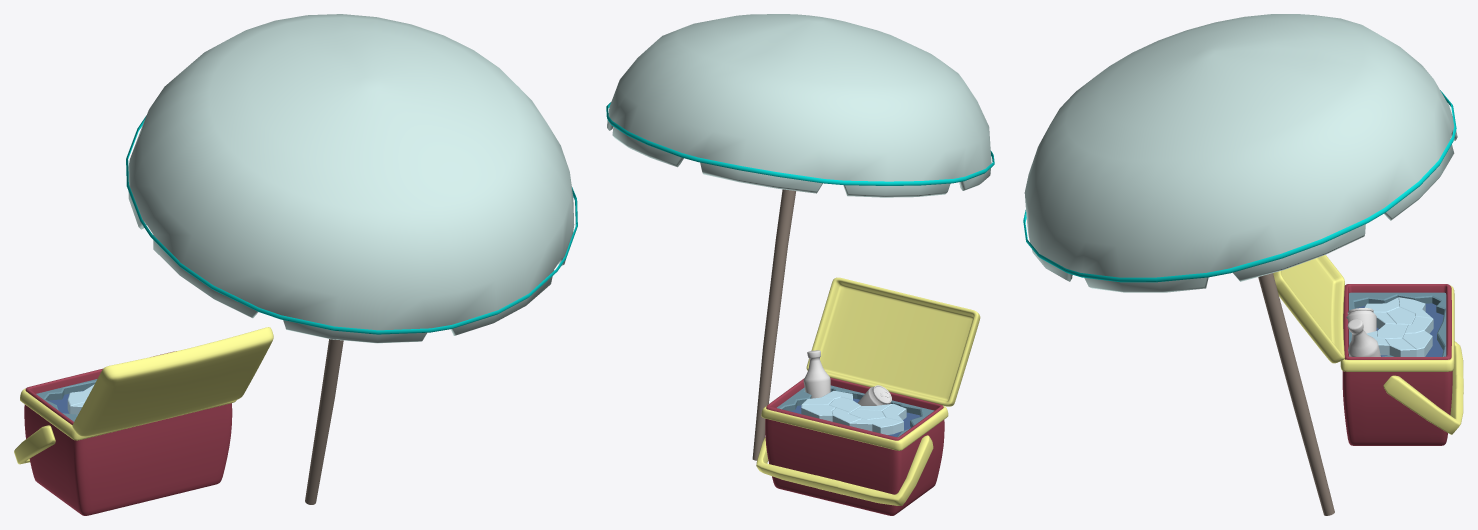
The model's file is Map_Icebox_01.fbx.
The picture shows the model from 3 angles, left to right: view 1: azimuth 30°, elevation 25°; view 2: azimuth 150°, elevation 25°; view 3: azimuth 270°, elevation 25°; orthographic projection. The views are drawn at different scales.
Parts seen in each view (by area): view 1: Circle, Cube.048, Cube.056, Circle.001, Cylinder.003, Cube.049, Plane.004, Cube.059; view 2: Circle, Cube.056, Cube.048, Cylinder.003, Plane.004, Circle.001, Cube.049, Cube.059, Cylinder.005, Plane.014, Cylinder.006, Plane.010; view 3: Circle, Cube.048, Cube.056, Cylinder.003, Circle.001, Plane.004, Cube.049, Cube.059, Cylinder.005, Cube.057, Plane.010, Cylinder.006.
Boxes of the visible parts, x1,y1,x2,y2 form: Circle: (128,14,574,343); Cube.048: (24,351,232,515); Cube.056: (72,327,273,436); Circle.001: (126,115,577,334); Cylinder.003: (305,339,343,504); Cube.049: (20,388,236,440); Plane.004: (14,425,55,464); Cube.059: (36,379,97,421); Circle: (607,14,991,197); Cube.056: (806,277,980,406); Cube.048: (765,377,944,515); Cylinder.003: (752,189,796,460); Plane.004: (756,435,933,505); Circle.001: (606,102,994,185); Cube.049: (761,405,948,450); Cube.059: (777,385,934,437); Cylinder.005: (803,350,830,398); Plane.014: (849,418,903,434); Cylinder.006: (858,385,891,405); Plane.010: (801,404,835,421); Circle: (1024,14,1457,292); Cube.048: (1342,284,1452,445); Cube.056: (1273,255,1344,363); Cylinder.003: (1258,273,1334,515); Circle.001: (1023,90,1456,282); Plane.004: (1383,341,1463,434); Cube.049: (1340,285,1454,371); Cube.059: (1349,292,1446,356); Cylinder.005: (1347,319,1380,356); Cube.057: (1357,303,1443,356); Plane.010: (1402,330,1432,356); Cylinder.006: (1346,308,1376,333).
Bounding box in the file's own units: 25396 × 26811 × 23056.
